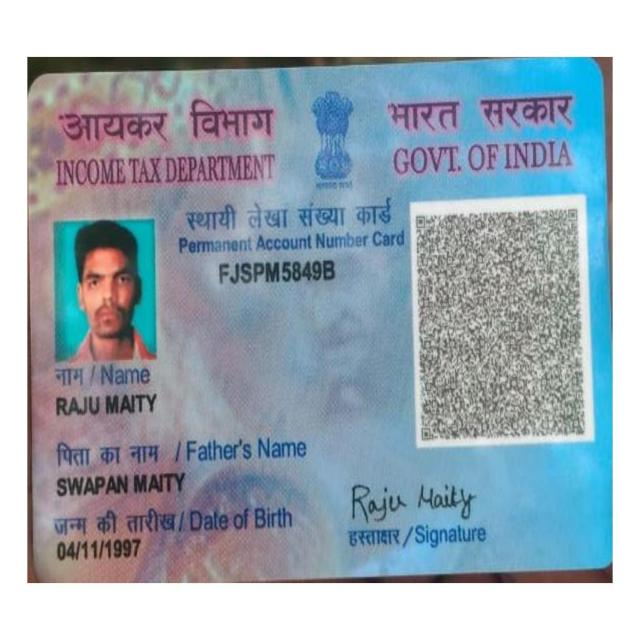pan_card: (27, 77, 610, 566)
